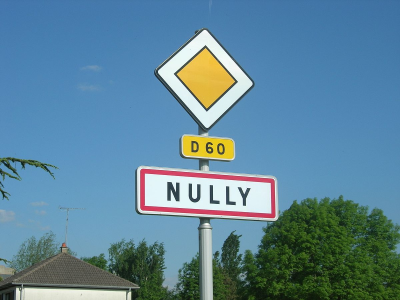priority_road: (164, 37, 248, 118)
